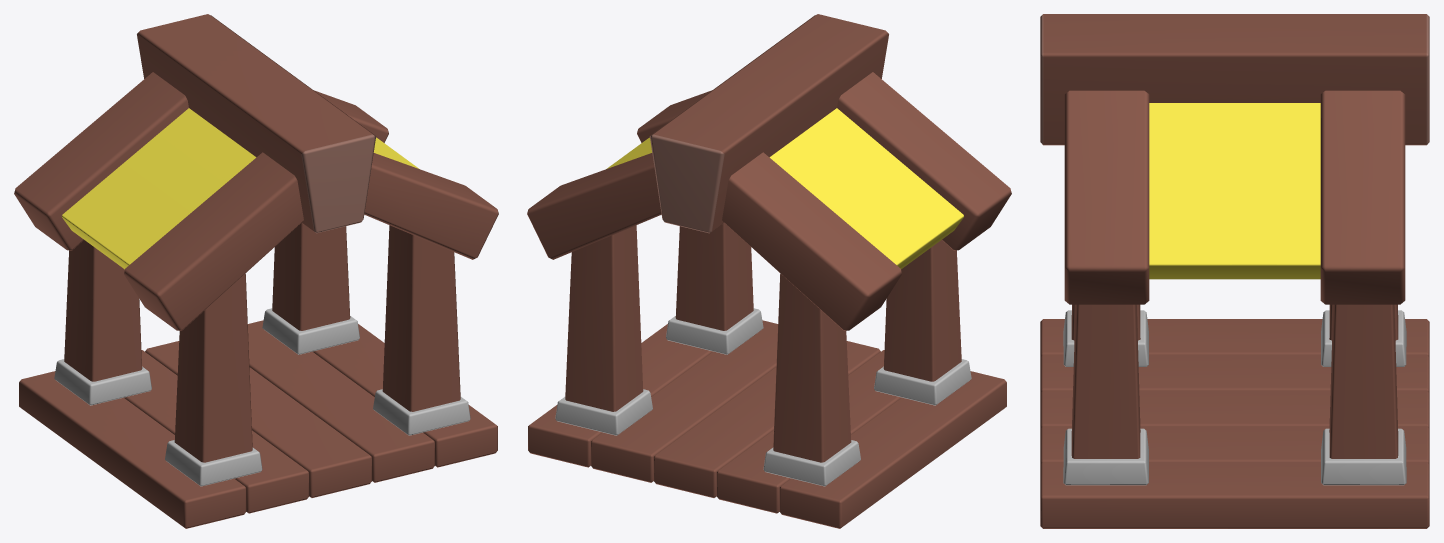
Rendered from Farm_4_Warehouse_1.glb.
3 renders of one model, left to right at view 1: azimuth 30°, elevation 25°; view 2: azimuth 150°, elevation 25°; view 3: azimuth 270°, elevation 25°, orthographic. The views are drawn at different scales.
Visible parts, largest first — view 1: Farm_4_Warehouse_1; view 2: Farm_4_Warehouse_1; view 3: Farm_4_Warehouse_1.
Boxes of the visible parts, x1,y1,x2,y2 form: Farm_4_Warehouse_1: (14, 14, 498, 528); Farm_4_Warehouse_1: (527, 14, 1011, 528); Farm_4_Warehouse_1: (1040, 14, 1429, 528).
Bounding box in the file's own units: 4.8 × 4.66 × 4.05.
1 material, 1 textured.
